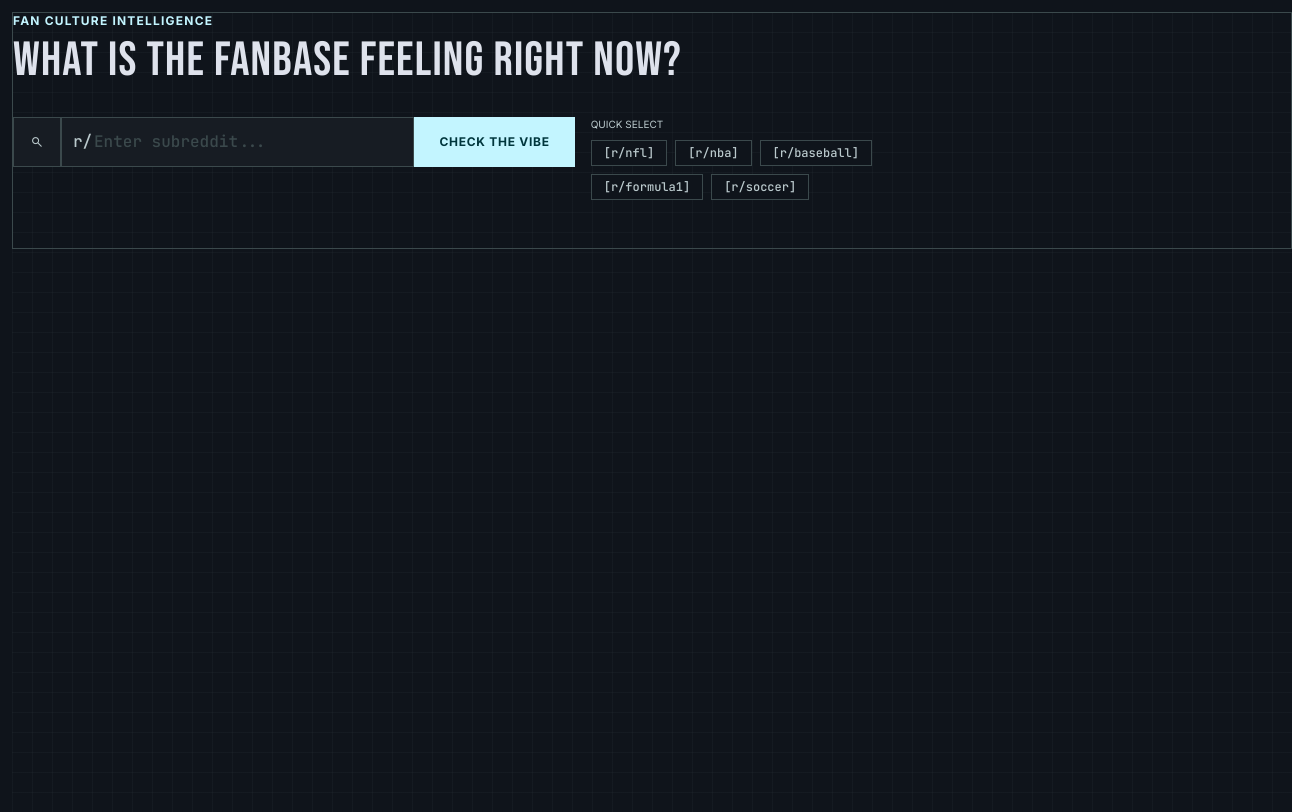
Scenario: HeroSearch › rejects empty input with an inline error
The width and height of the screenshot is (1292, 812).
Click the button "CHECK THE VIBE". click: (495, 142)
box: [414,117,575,167]
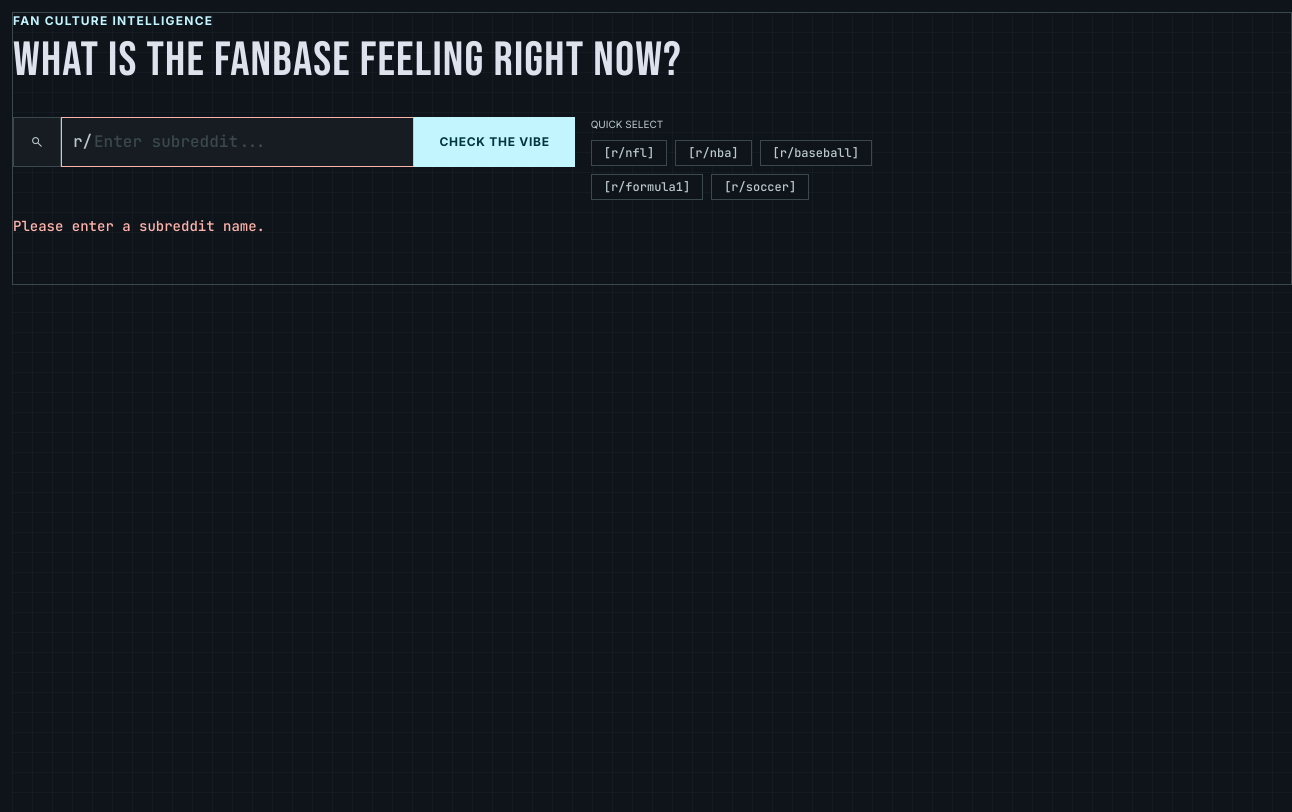
expect the text "Please enter a subreddit name." is shown: met, box [13,217,265,235]
